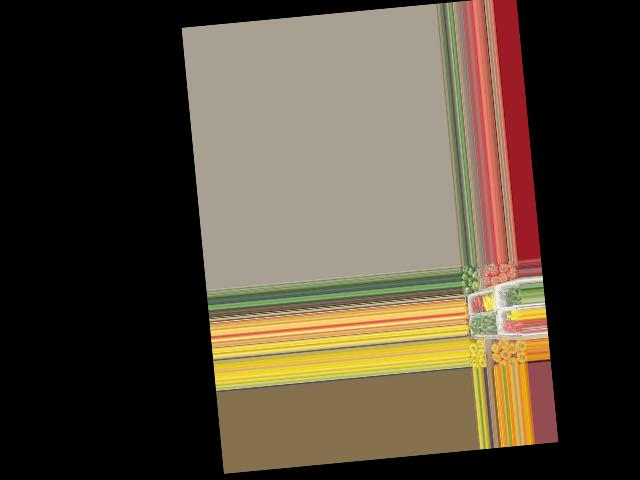bell_pepper: (468, 270, 480, 280)
